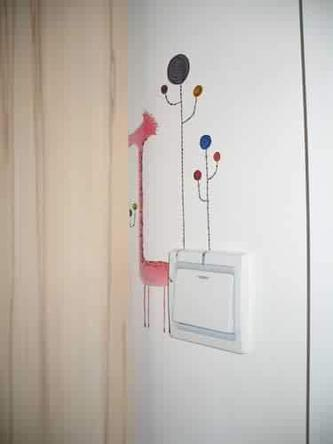switch: (171, 264, 235, 334)
